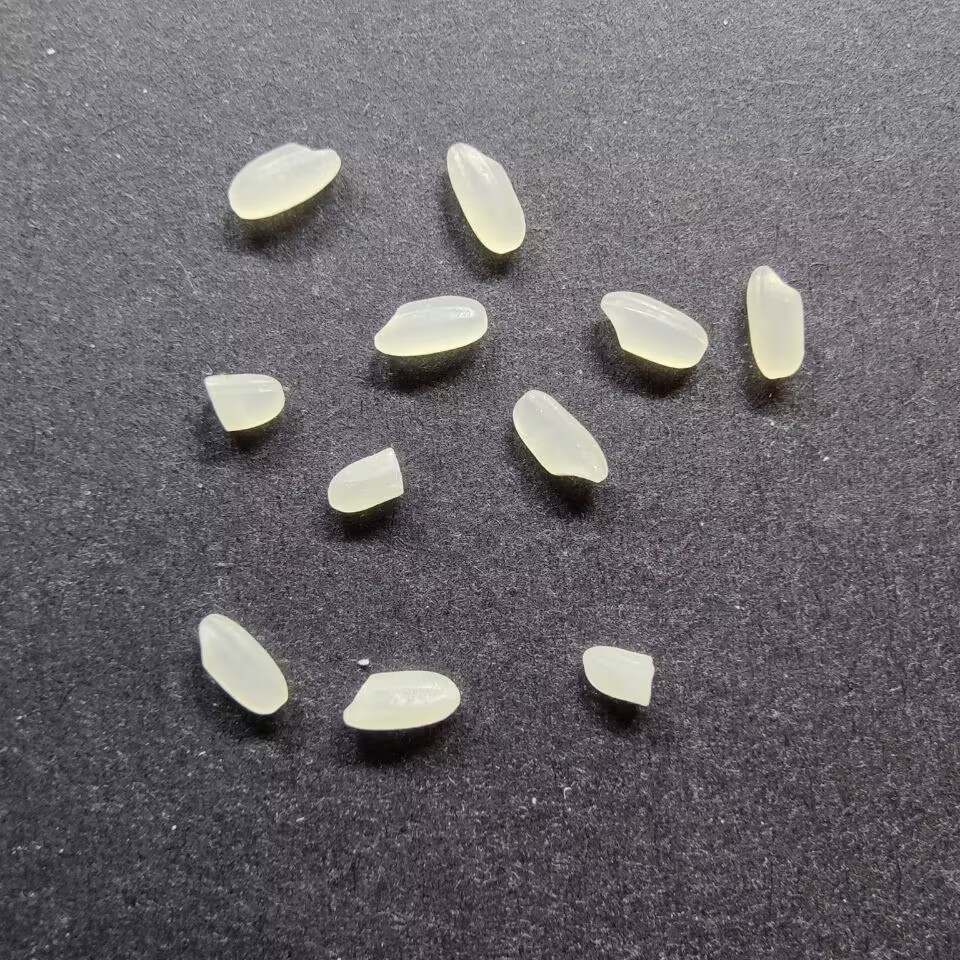broken: (325, 448, 405, 514), (202, 370, 288, 430), (581, 643, 658, 707)
rice: (195, 610, 290, 717), (509, 388, 611, 485), (443, 142, 527, 255), (223, 141, 342, 220), (598, 288, 711, 369), (339, 669, 463, 732), (371, 294, 489, 358), (744, 263, 806, 379)
